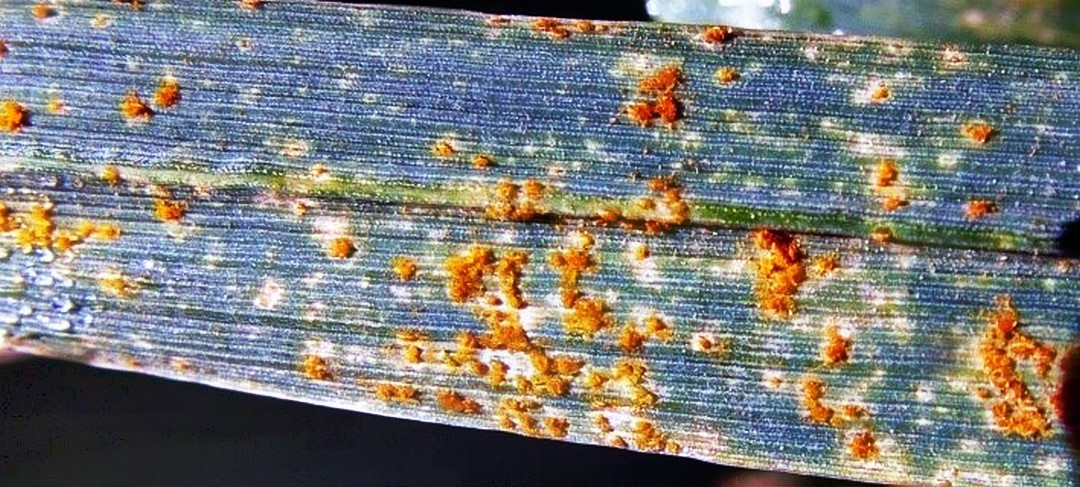Leaf Rust: (239, 26, 941, 468)
